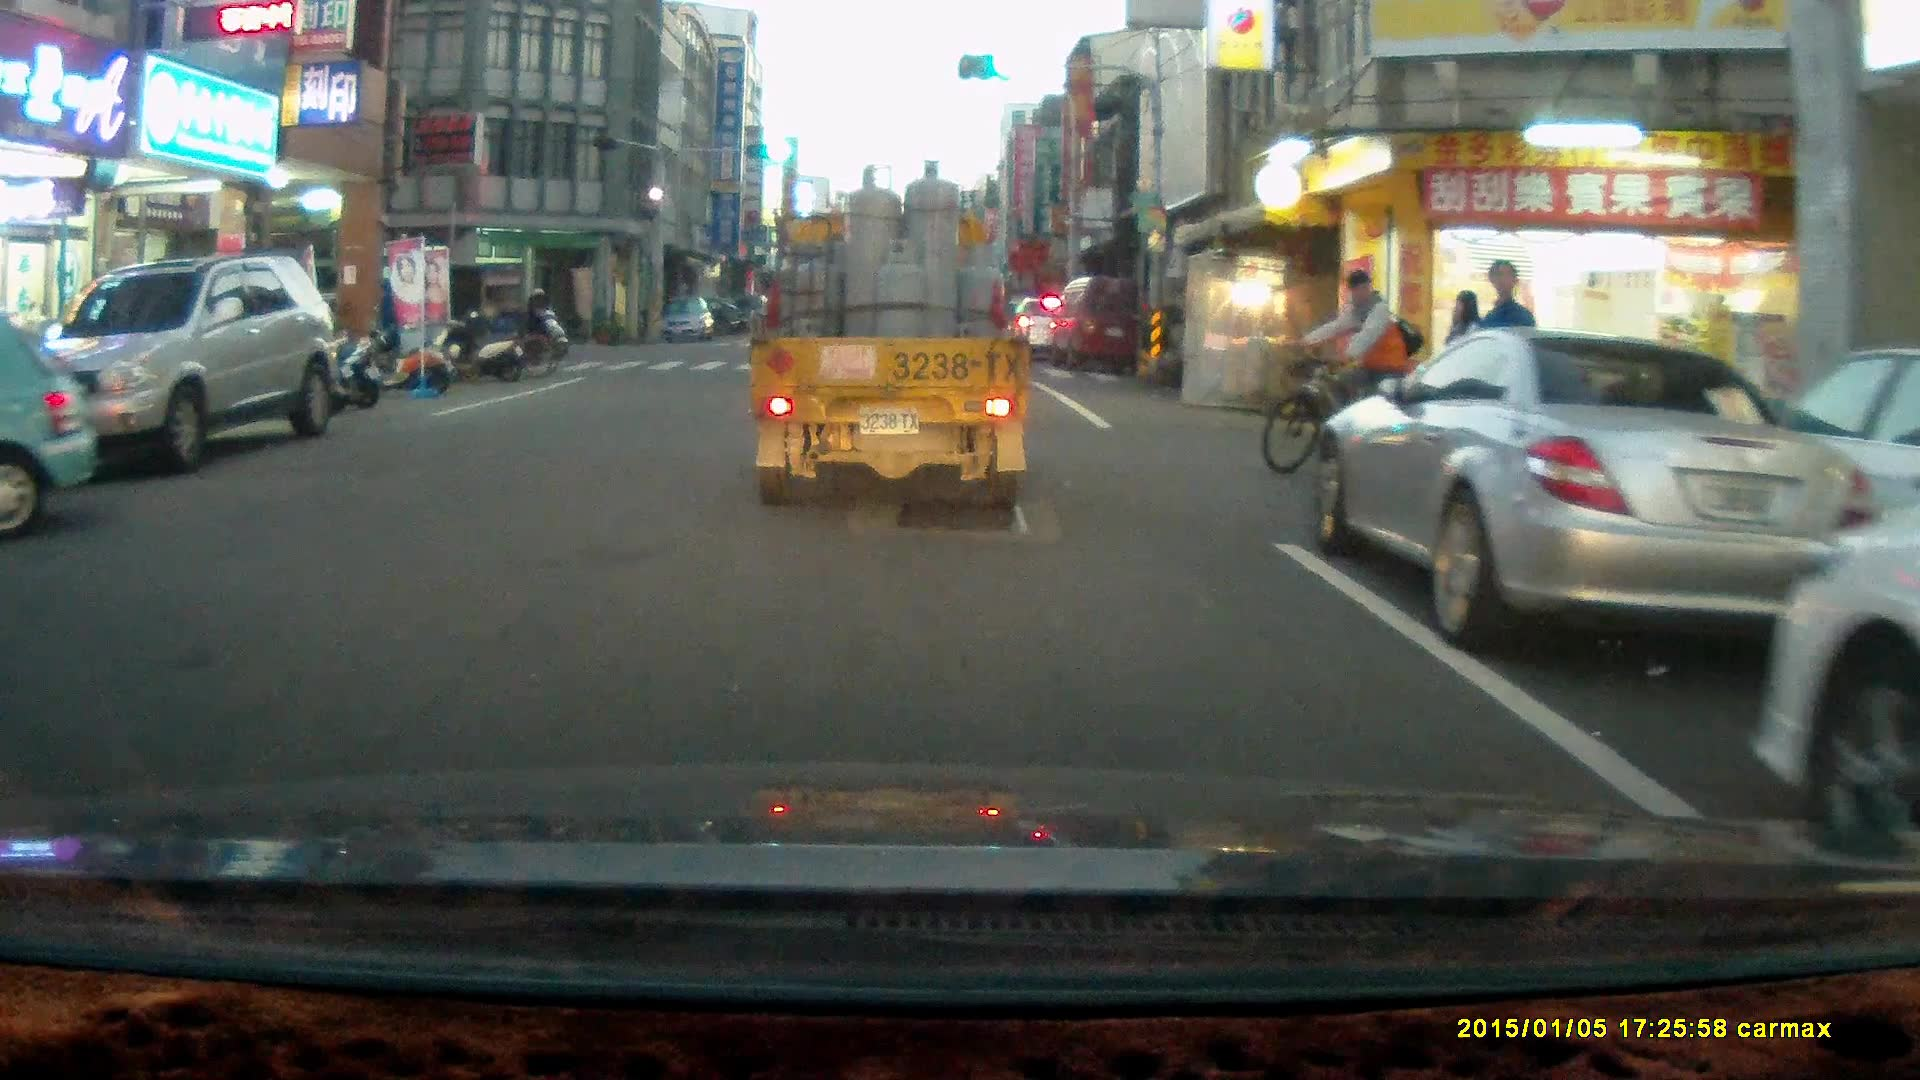rider: (1263, 268, 1441, 479), (505, 282, 569, 363)
vehicle: (1313, 330, 1847, 657), (749, 162, 1036, 515), (7, 252, 346, 474), (1744, 504, 1920, 880), (1, 324, 103, 545), (333, 261, 527, 365), (1053, 274, 1155, 371), (1022, 296, 1088, 361), (656, 293, 720, 348)
